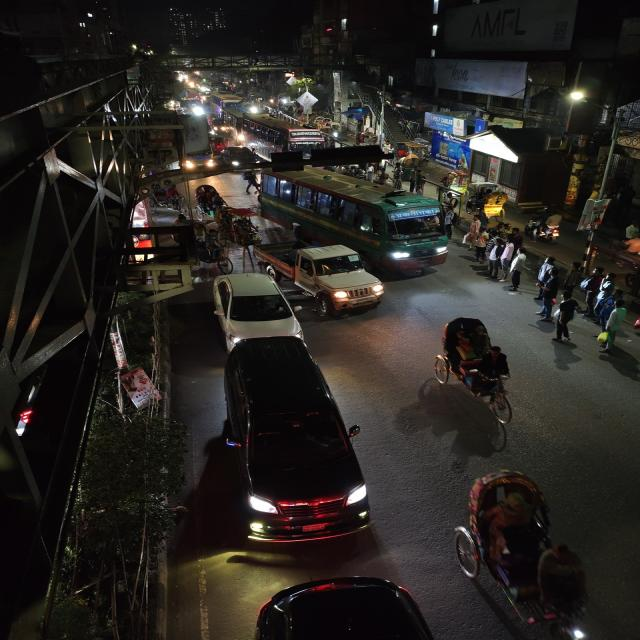bus: (250, 168, 460, 266), (237, 114, 327, 156)
car: (219, 334, 377, 548), (209, 272, 304, 348), (216, 145, 267, 172)
cng: (209, 117, 232, 138)
pedestrian: (595, 302, 638, 352), (490, 227, 524, 278), (550, 294, 585, 342), (579, 267, 609, 311), (532, 280, 560, 322), (534, 253, 562, 291), (505, 250, 530, 292), (486, 236, 508, 278), (564, 260, 586, 294), (471, 229, 489, 263)
pickup_van: (274, 226, 387, 318), (185, 145, 215, 174)
rickshaw: (447, 465, 602, 640), (430, 312, 525, 418), (465, 184, 512, 222), (211, 216, 261, 247), (192, 182, 230, 214), (441, 169, 474, 195)
